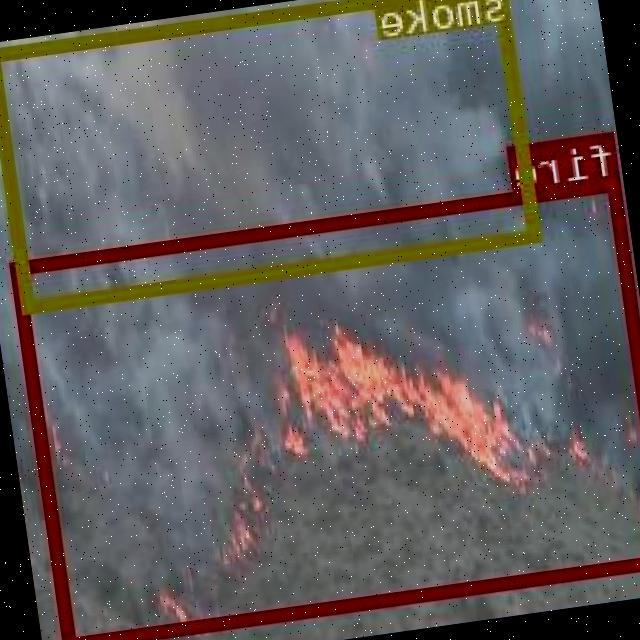fire: (14, 176, 640, 640)
smoke: (0, 0, 543, 312)
